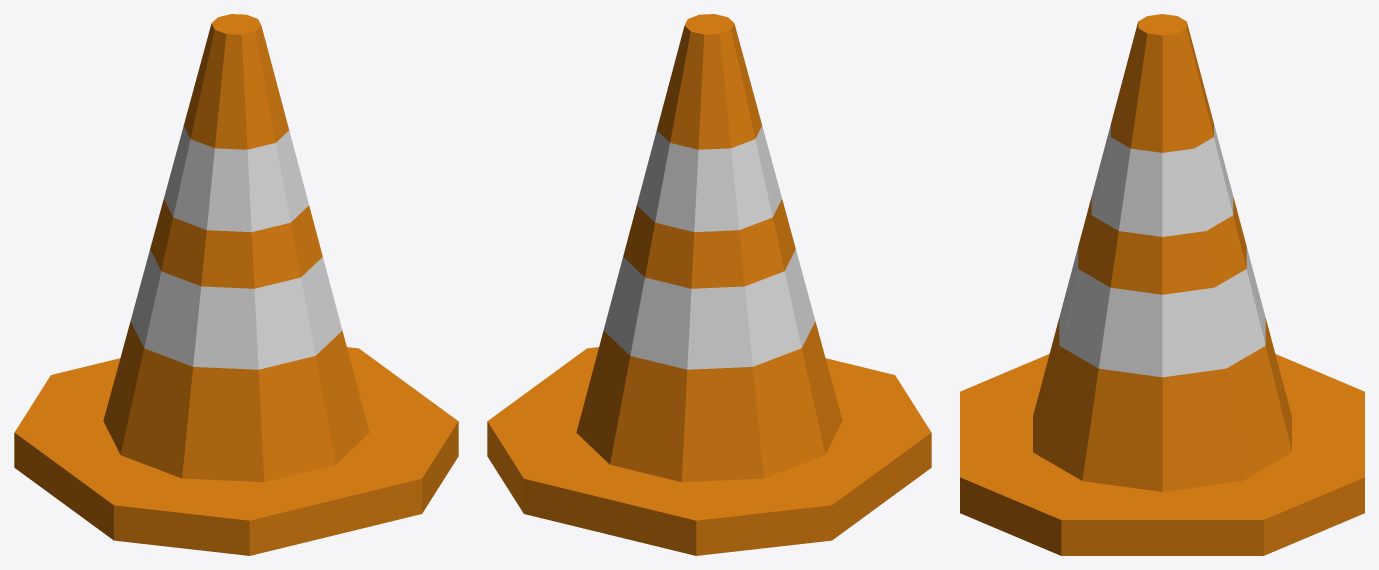
Rendered from SafetyCone.fbx.
3 renders of one model, left to right at view 1: azimuth 30°, elevation 25°; view 2: azimuth 150°, elevation 25°; view 3: azimuth 270°, elevation 25°, orthographic.
Parts seen in each view (by area): view 1: polySurface2; view 2: polySurface2; view 3: polySurface2.
Boxes of the visible parts, x1,y1,x2,y2 form: polySurface2: (14, 14, 458, 555); polySurface2: (487, 14, 931, 555); polySurface2: (960, 14, 1364, 555).
Bounding box in the file's own units: 1.65 × 2 × 1.65.
